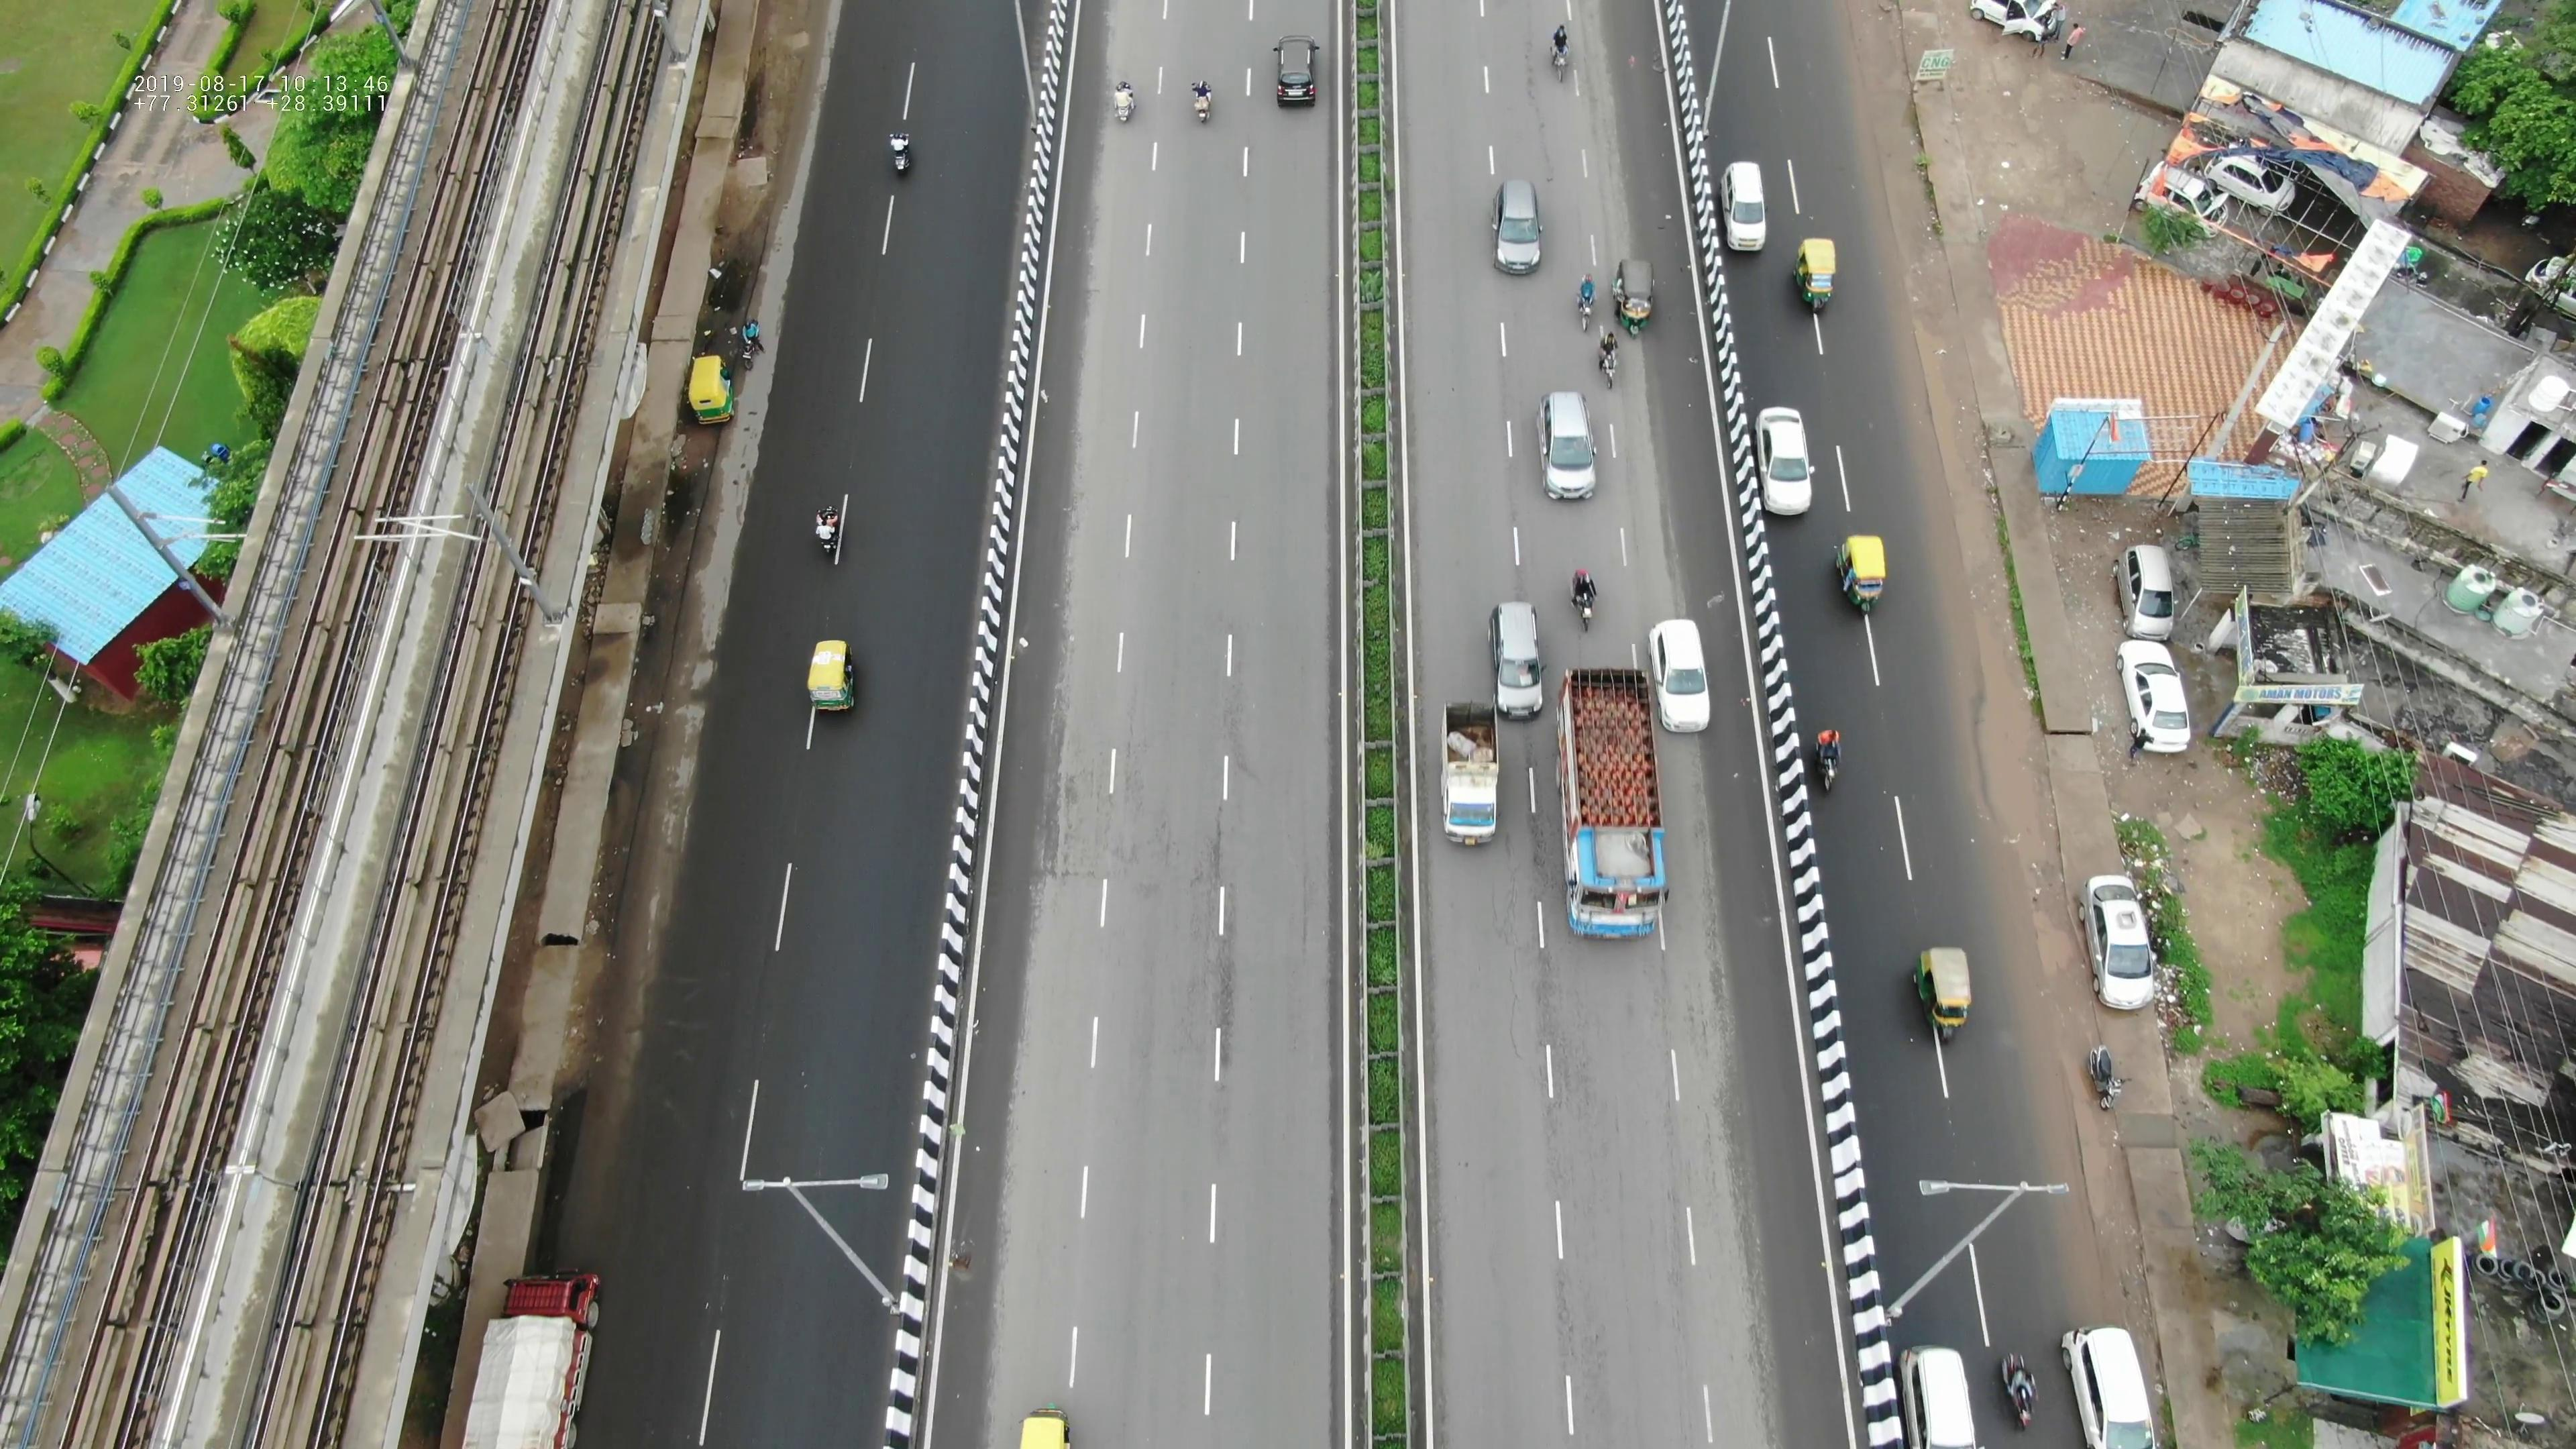Hair_cracks: (1049, 766, 1210, 906)
